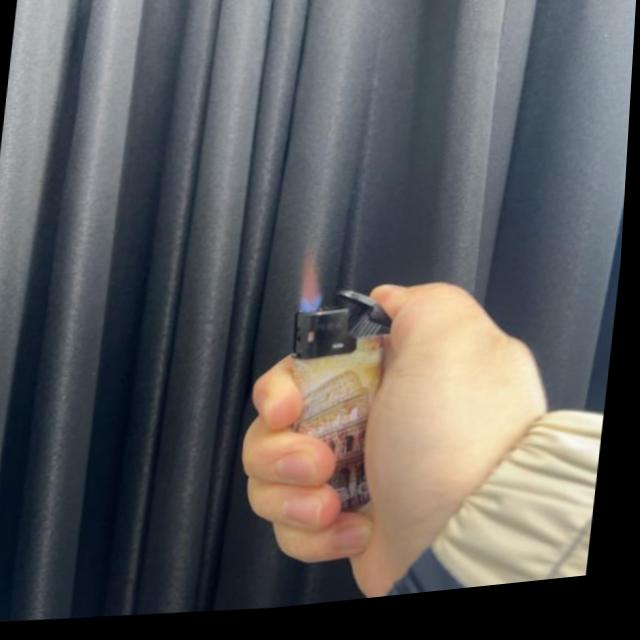Fire: (297, 252, 332, 321)
